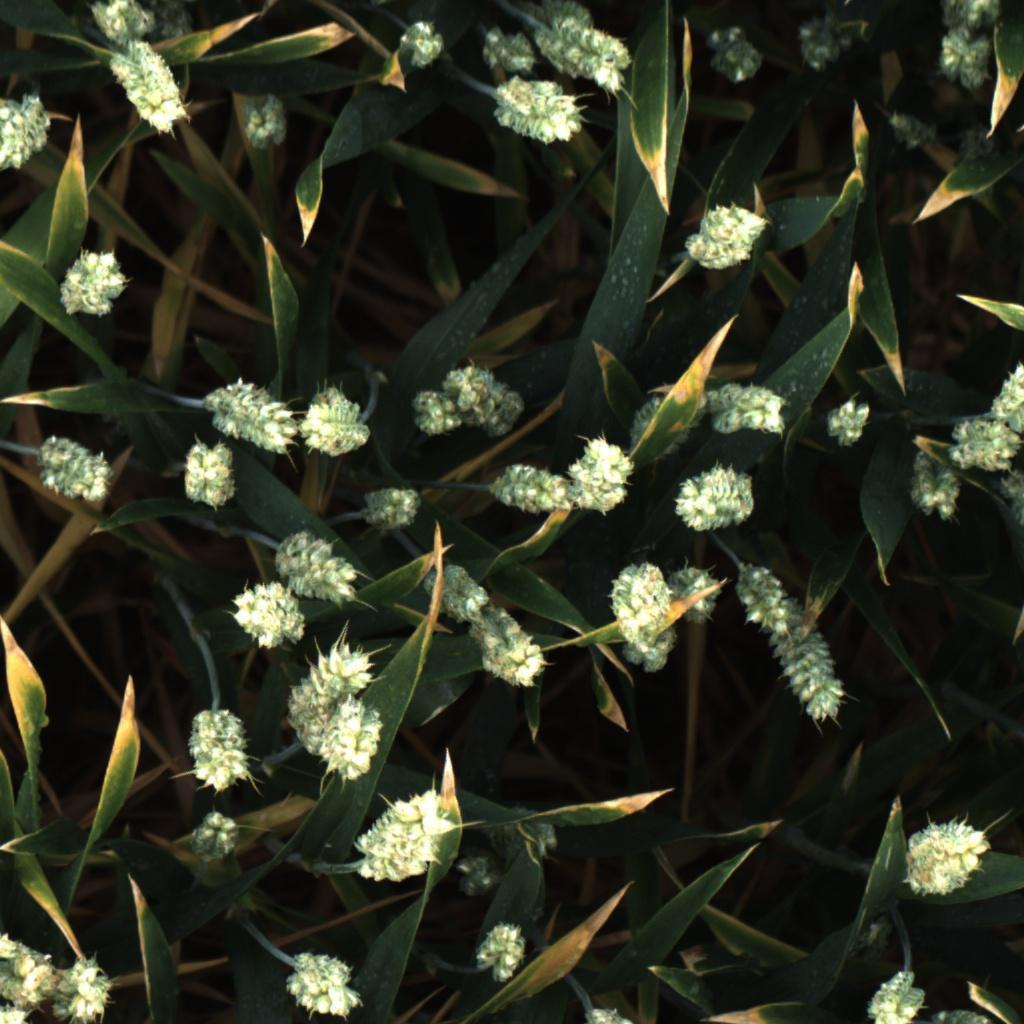0-0: (340, 785, 454, 897), (762, 592, 847, 728), (506, 0, 634, 90), (275, 642, 376, 755), (100, 34, 192, 137), (616, 381, 717, 471), (460, 602, 553, 695), (274, 526, 361, 614), (446, 361, 535, 445), (902, 813, 989, 898), (490, 77, 589, 150), (683, 194, 767, 277), (204, 377, 298, 450), (668, 461, 763, 533), (602, 563, 669, 664), (224, 577, 312, 653), (186, 705, 259, 793), (568, 432, 641, 515), (57, 243, 131, 323), (284, 951, 365, 1024), (295, 384, 372, 459), (35, 431, 112, 505), (320, 700, 387, 782), (0, 929, 63, 1014), (707, 379, 791, 442), (488, 461, 574, 519), (0, 90, 56, 174), (53, 955, 121, 1024), (177, 437, 244, 506), (486, 803, 562, 863), (947, 416, 1024, 474), (900, 452, 961, 525), (704, 22, 765, 90), (792, 13, 854, 79), (359, 479, 429, 536), (468, 919, 529, 984), (862, 965, 929, 1024), (667, 561, 722, 632), (404, 382, 467, 440), (184, 810, 247, 867), (739, 561, 788, 634), (131, 0, 198, 53), (238, 90, 293, 152), (84, 0, 153, 48), (478, 25, 540, 78), (396, 11, 446, 74), (440, 568, 496, 624), (824, 389, 873, 451), (941, 32, 996, 86), (881, 106, 939, 155), (452, 847, 501, 903), (989, 360, 1024, 433), (937, 0, 1008, 32), (993, 465, 1024, 531), (538, 0, 596, 35), (582, 1004, 640, 1024), (922, 1009, 996, 1024), (0, 1004, 38, 1024)
